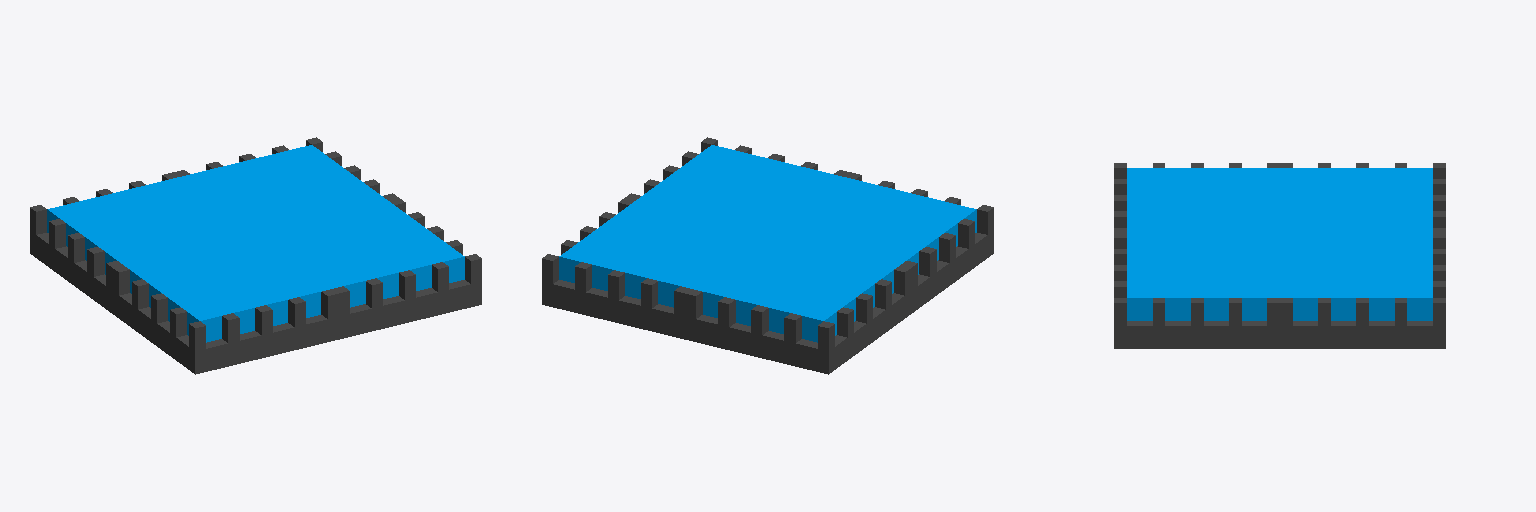
The picture shows the model from 3 angles: view 1: azimuth 30°, elevation 25°; view 2: azimuth 150°, elevation 25°; view 3: azimuth 270°, elevation 25°; orthographic projection.
Visible parts, largest first — view 1: object 1; view 2: object 1; view 3: object 1.
Part boxes in pixels (bbox=[...]): object 1: bbox=[30, 137, 481, 374]; object 1: bbox=[542, 137, 993, 374]; object 1: bbox=[1114, 163, 1445, 348].
Size of the model in its own units: 2.6 by 0.4 by 2.6.
Materials: 1 (1 with a texture image).